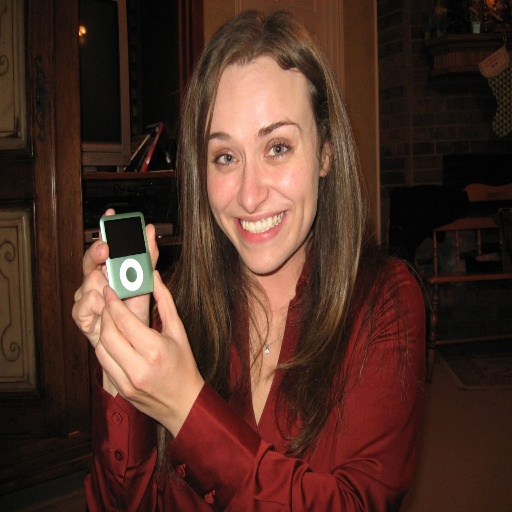hand: (96, 267, 204, 430), (69, 206, 160, 355)
